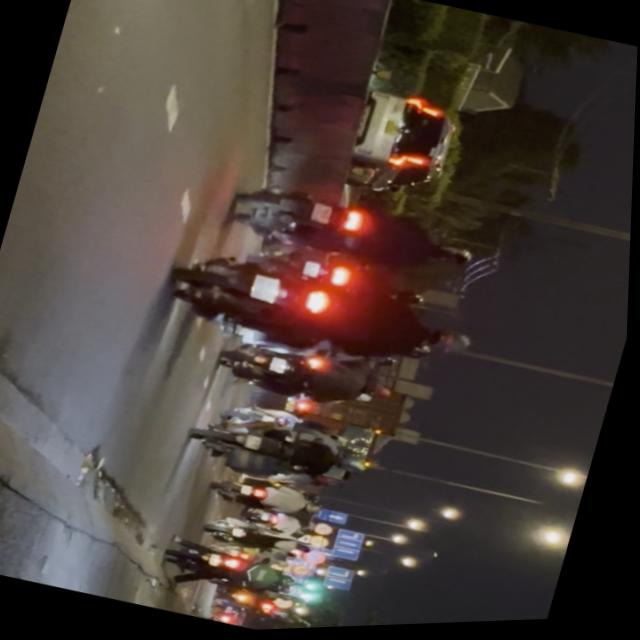helmet: (420, 323, 477, 362)
licenseplate: (158, 236, 487, 399)
nohelmet: (250, 274, 284, 305)
